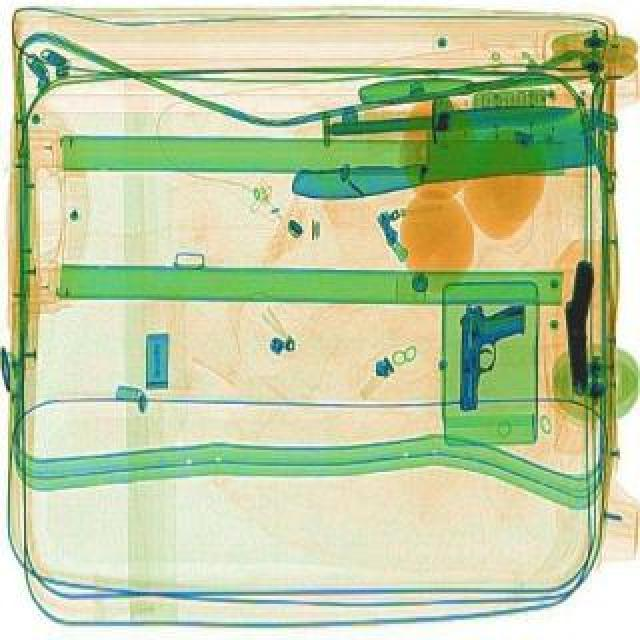gun: (460, 306, 528, 414), (564, 264, 598, 396)
knife: (288, 102, 604, 206), (360, 66, 596, 114), (332, 104, 580, 144)
